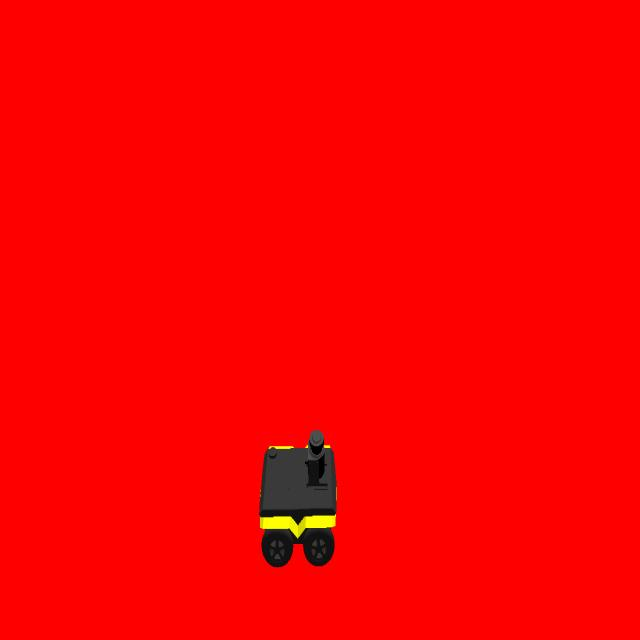jackal: (258, 425, 338, 569)
